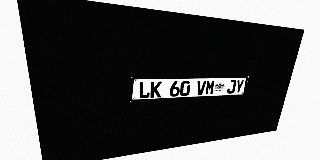plate: (130, 76, 249, 102)
